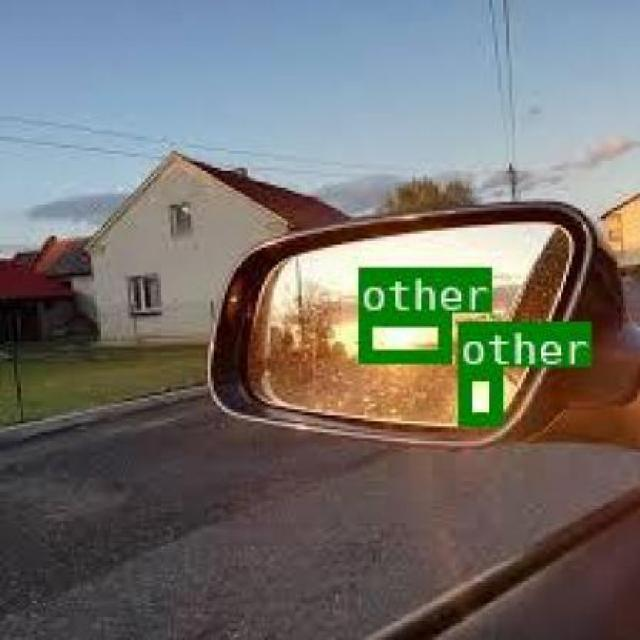Smoke: (358, 312, 449, 361), (456, 366, 498, 424)
